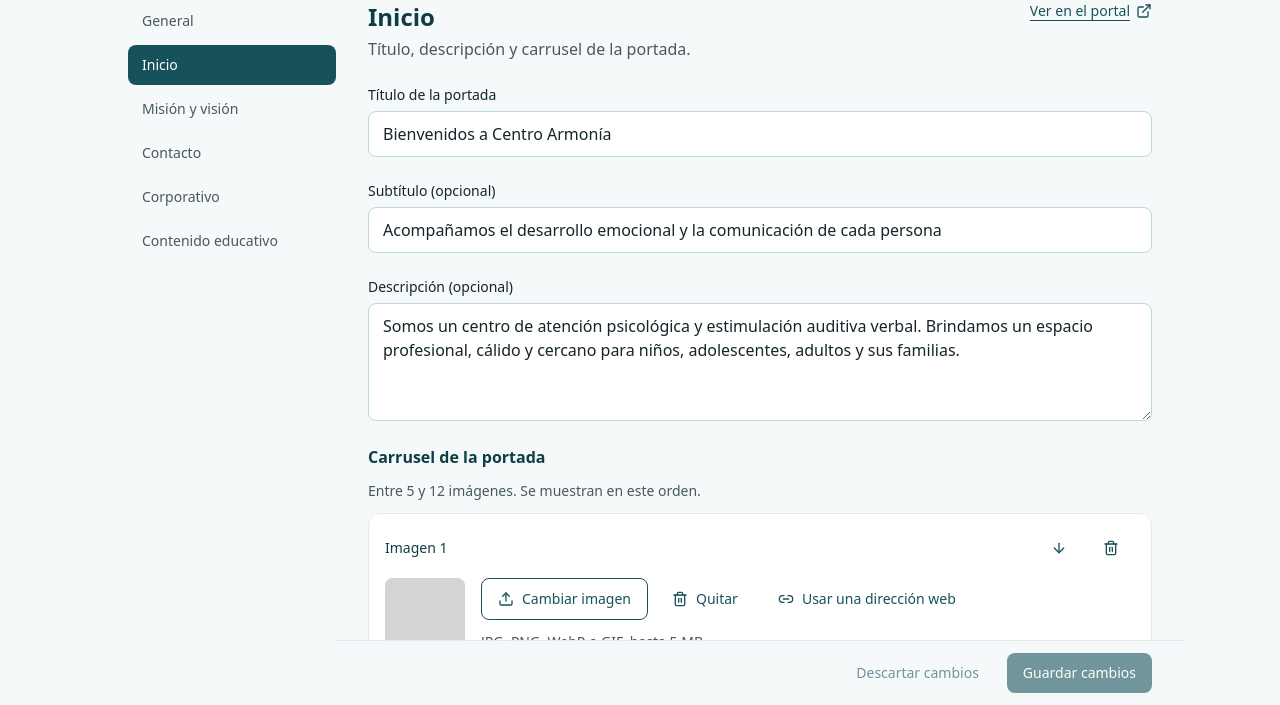
Test: Editor de contenido › un error del servidor sobre una imagen se muestra bajo el campo de esa imagen
Type "!" into the field labelled "Título de la portada" at {"x": 760, "y": 134}, box [368,111,1152,157]
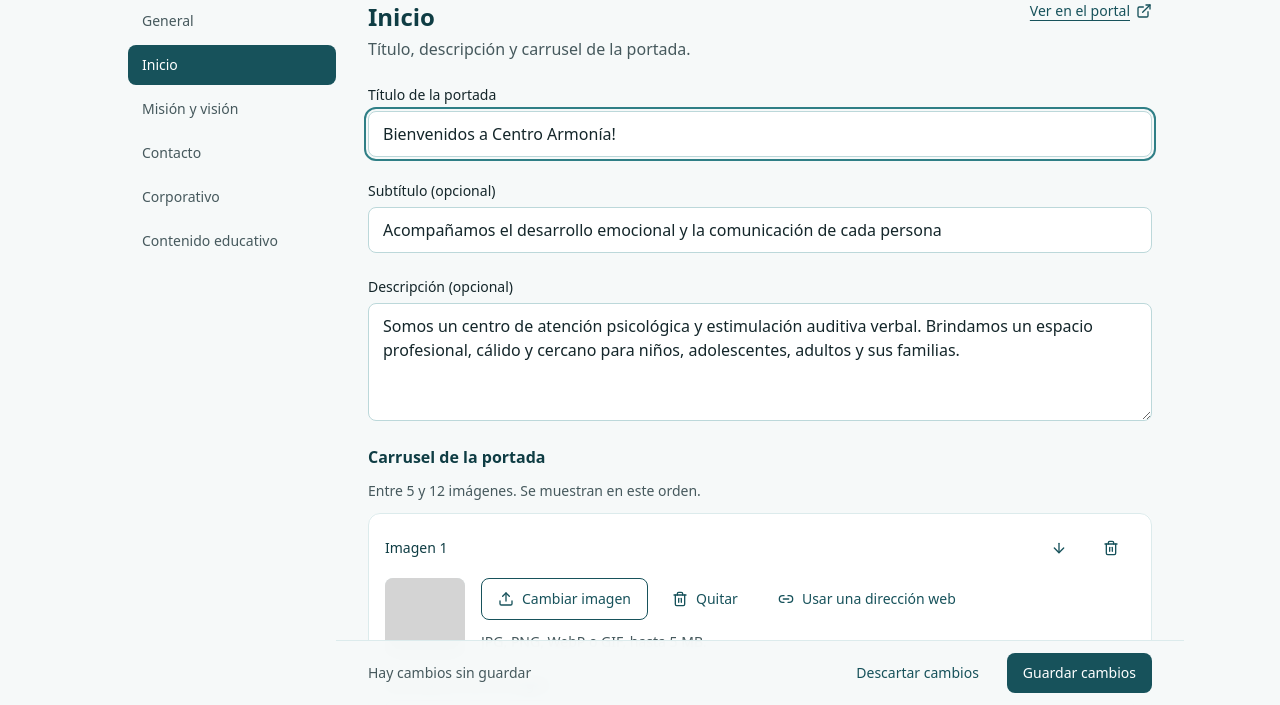
Click the button "Guardar cambios" at {"x": 1079, "y": 673}, box [1007,653,1152,693]
(page scrolled)
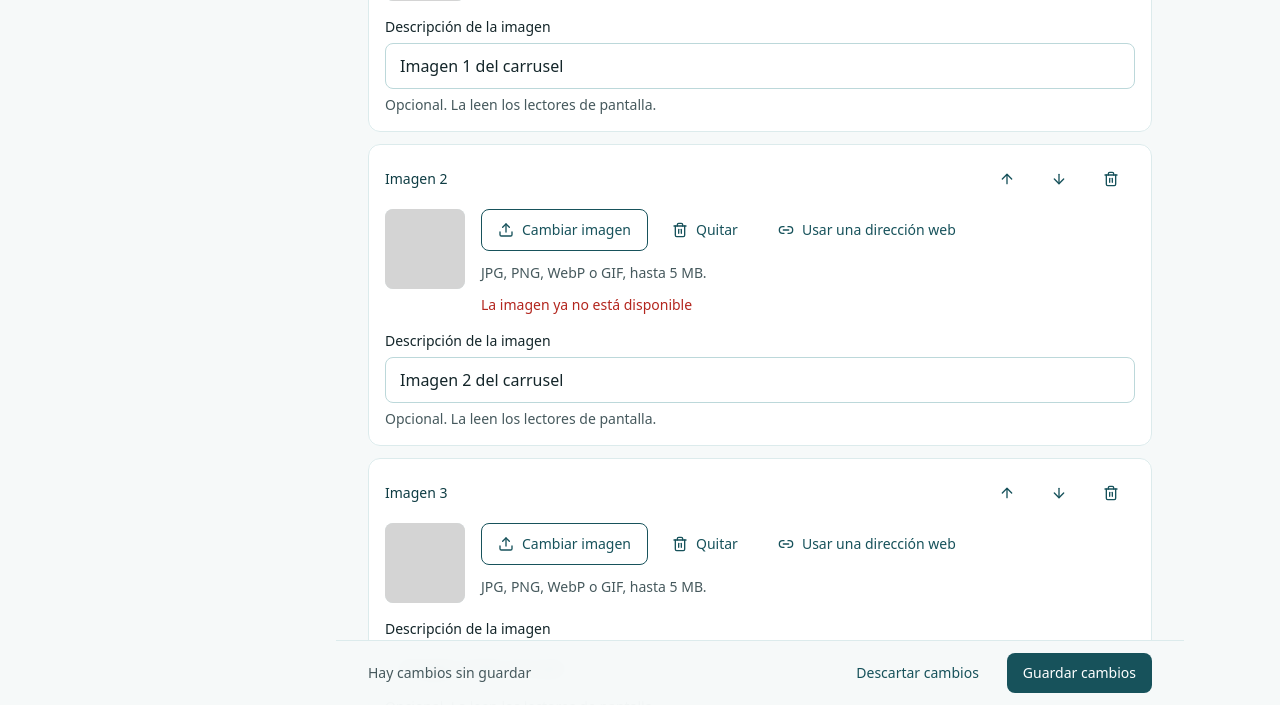
Now the text "La imagen ya no está disponible" is shown, box [481,295,692,314]
